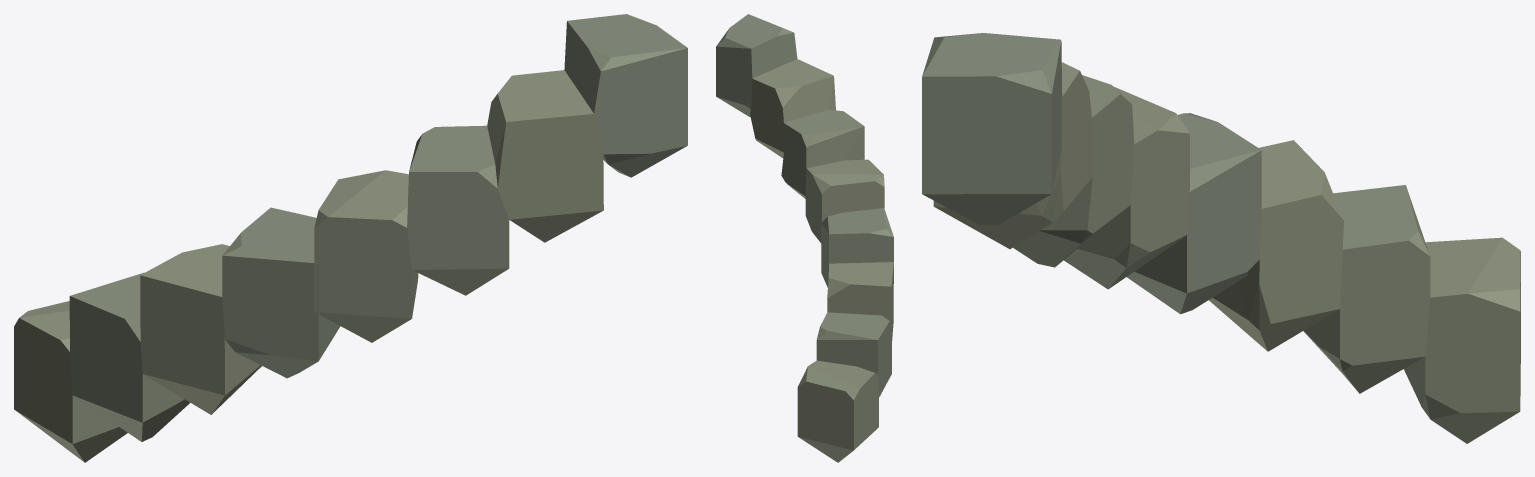
File: stair_spiral_wide_railing_inside_short_counter.fbx
3 views of the same model, side by side, from view 1: azimuth 30°, elevation 25°; view 2: azimuth 150°, elevation 25°; view 3: azimuth 270°, elevation 25° (orthographic). The views are drawn at different scales.
Parts seen in each view (by area): view 1: stair_spiral_wide_railing_inside_short_counter; view 2: stair_spiral_wide_railing_inside_short_counter; view 3: stair_spiral_wide_railing_inside_short_counter.
Part boxes in pixels (x1,y1,x2,y2): stair_spiral_wide_railing_inside_short_counter: (14,14,687,462); stair_spiral_wide_railing_inside_short_counter: (716,14,893,462); stair_spiral_wide_railing_inside_short_counter: (922,33,1520,443).
Size of the model in its own units: 229 by 250 by 231.
